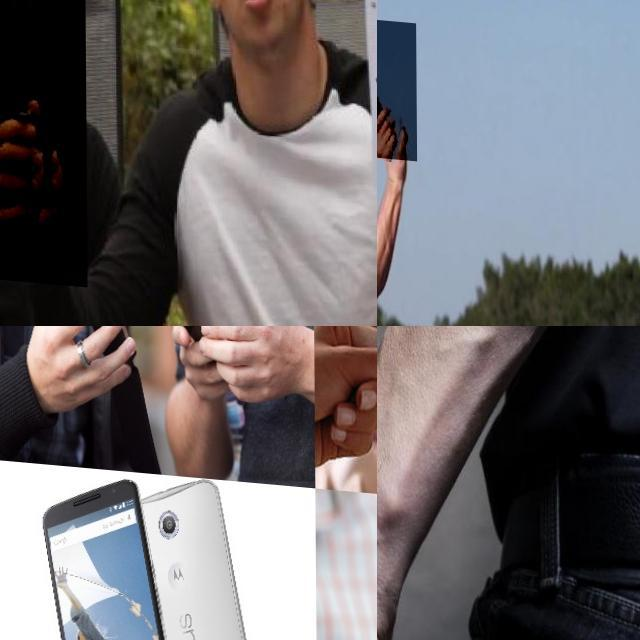-: (377, 423, 507, 640), (0, 0, 86, 283), (377, 9, 426, 154)
